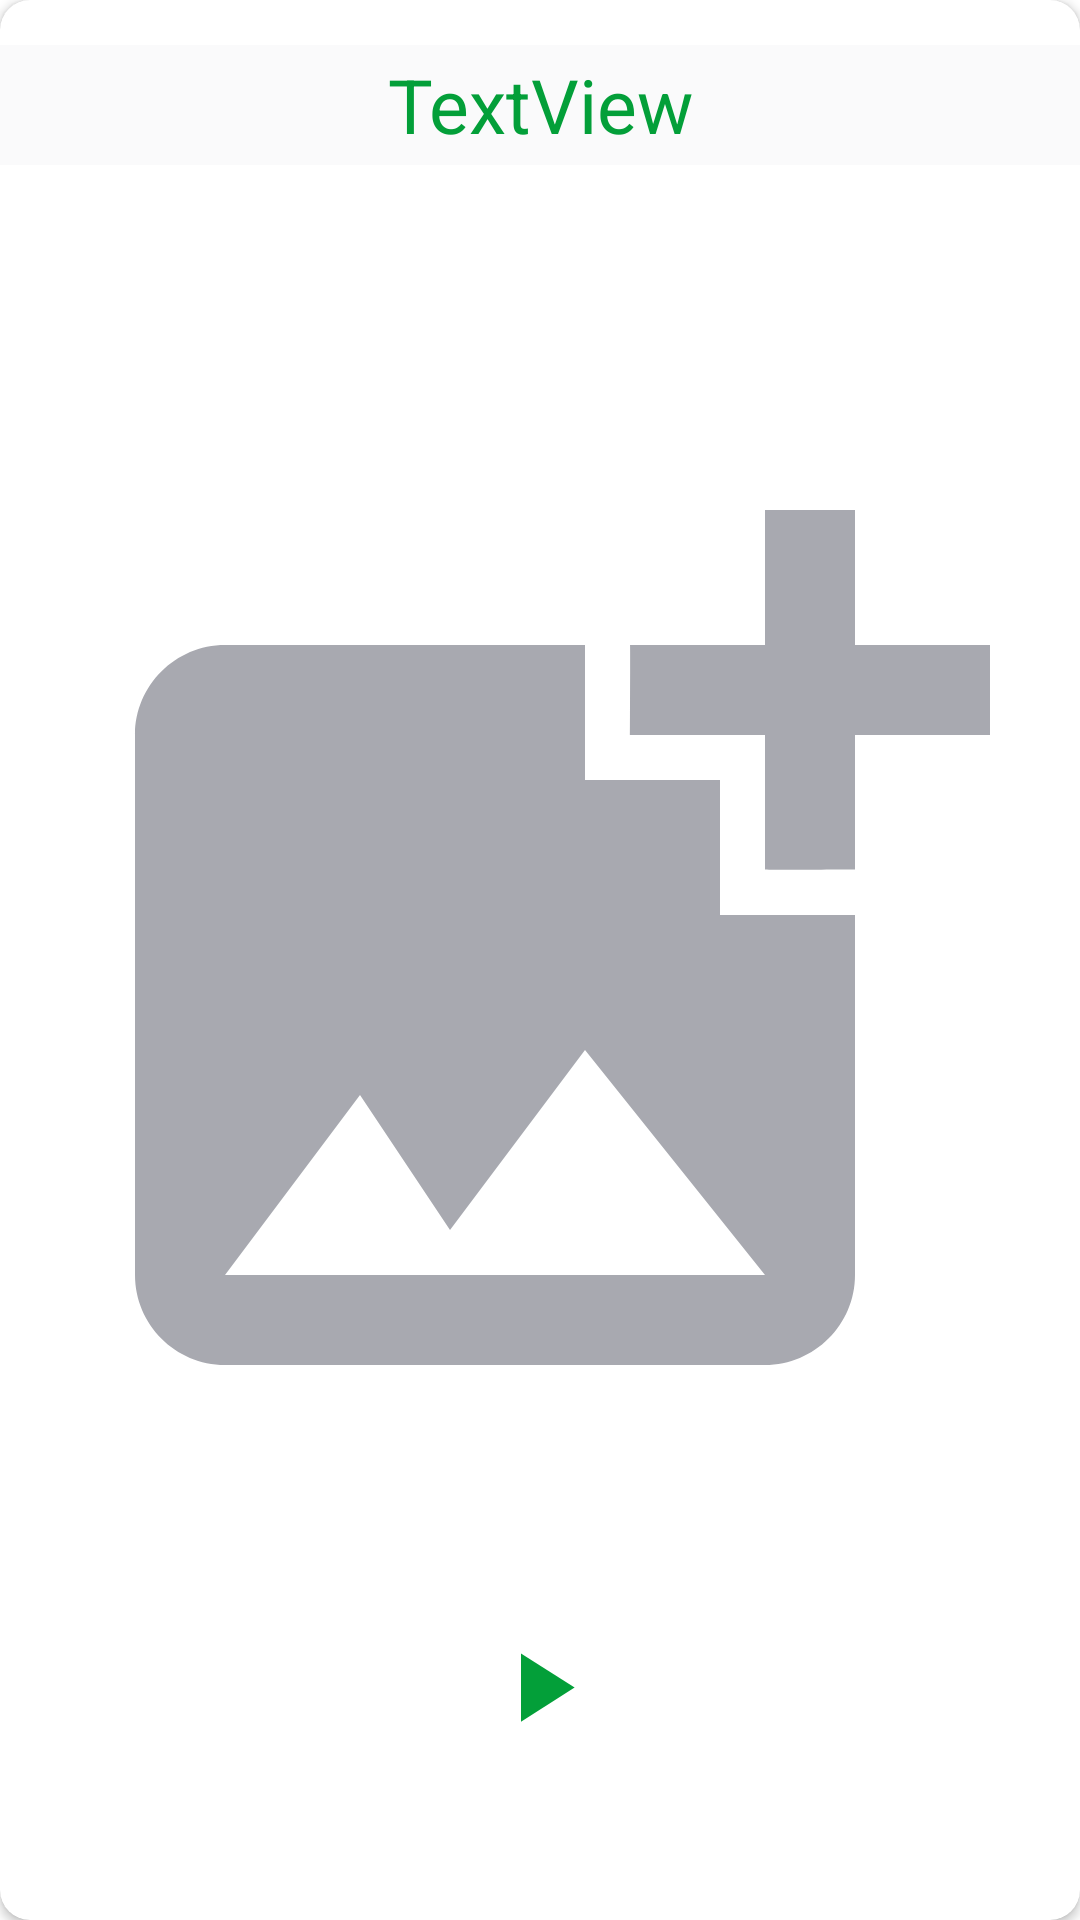

Point at icon controls on the screen. Image size 1080x1920, points as (x=x, y=y).
audioplay: (x=548, y=1687)
